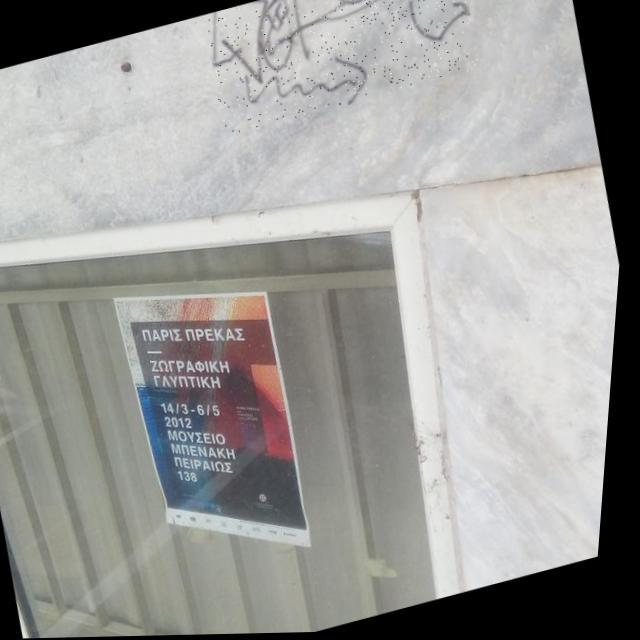-: (196, 0, 485, 137)
